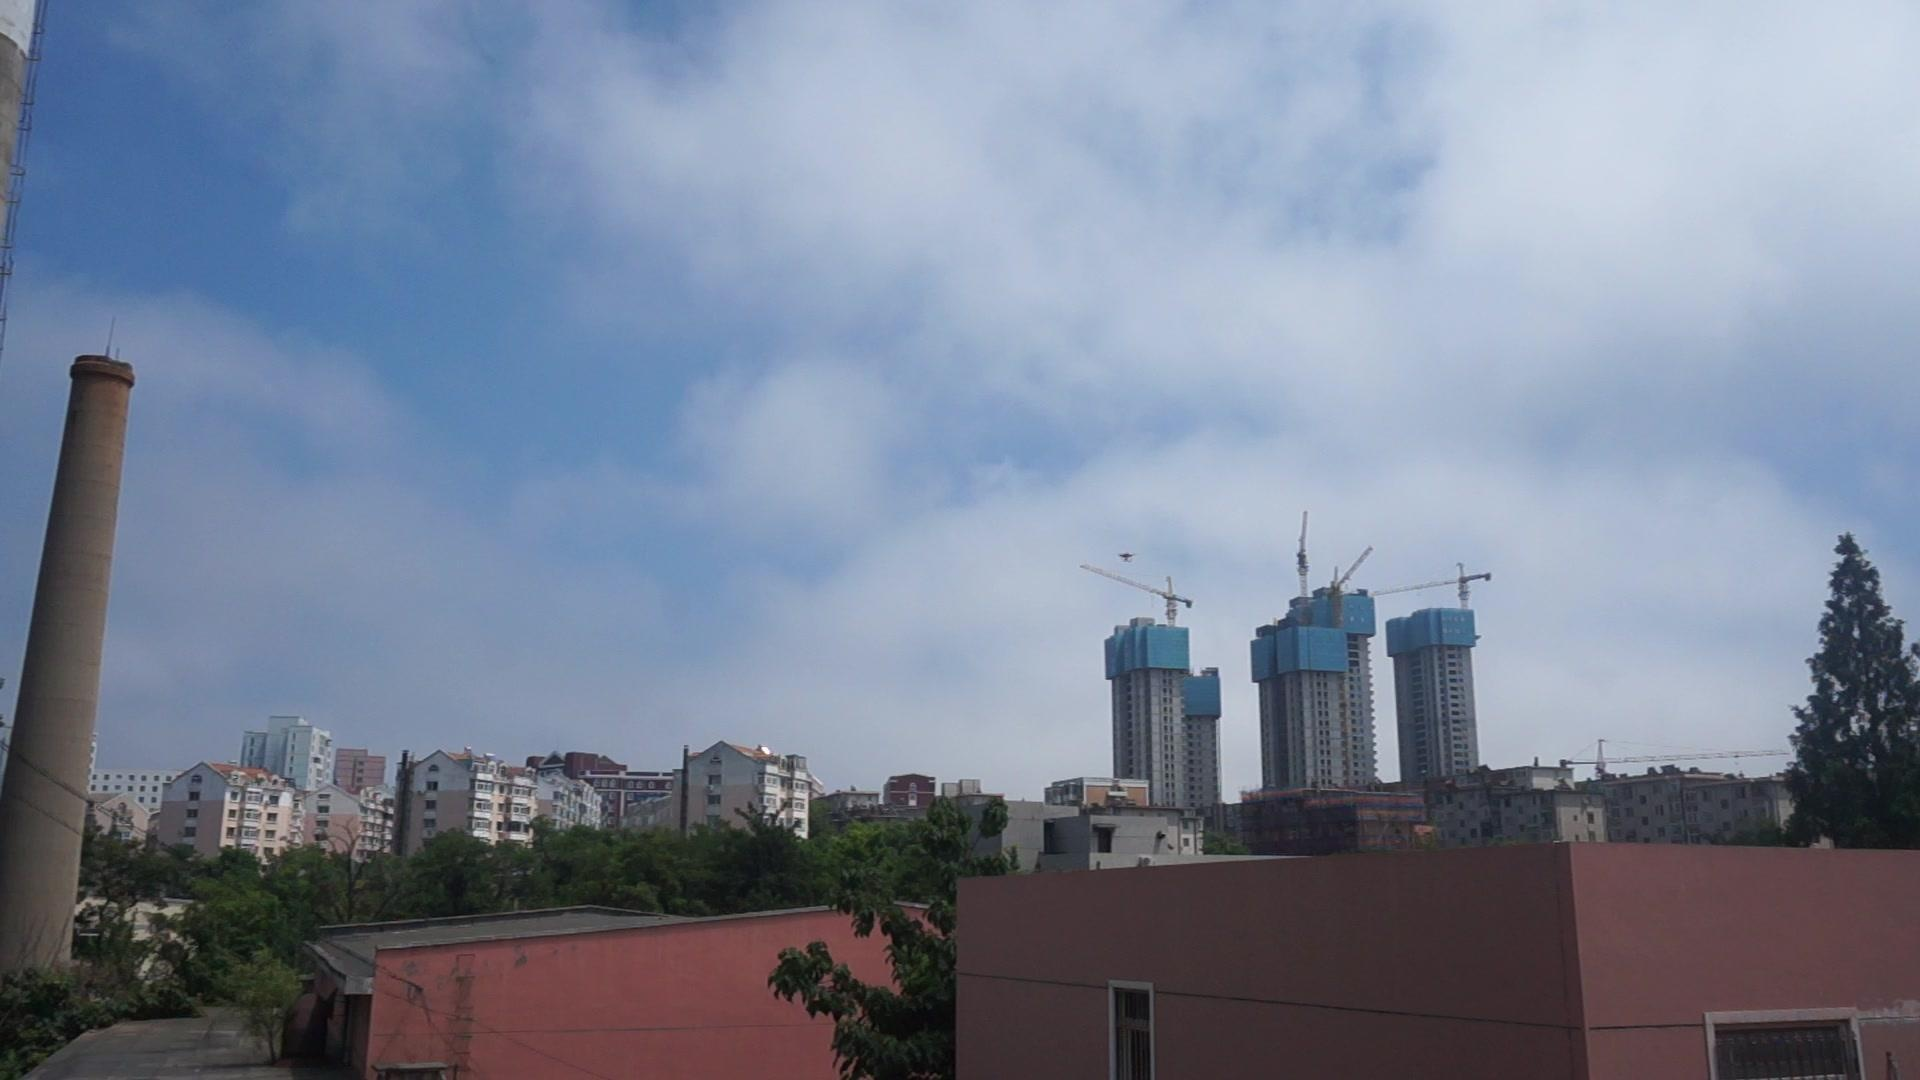UAV: (1118, 553, 1137, 563)
